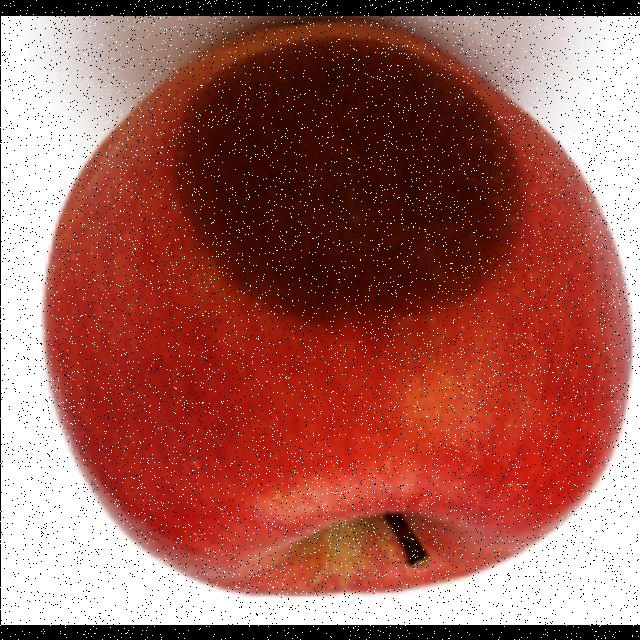Apel Segar: (29, 231, 640, 615)
Apel Tidak Segar: (116, 26, 545, 367)
